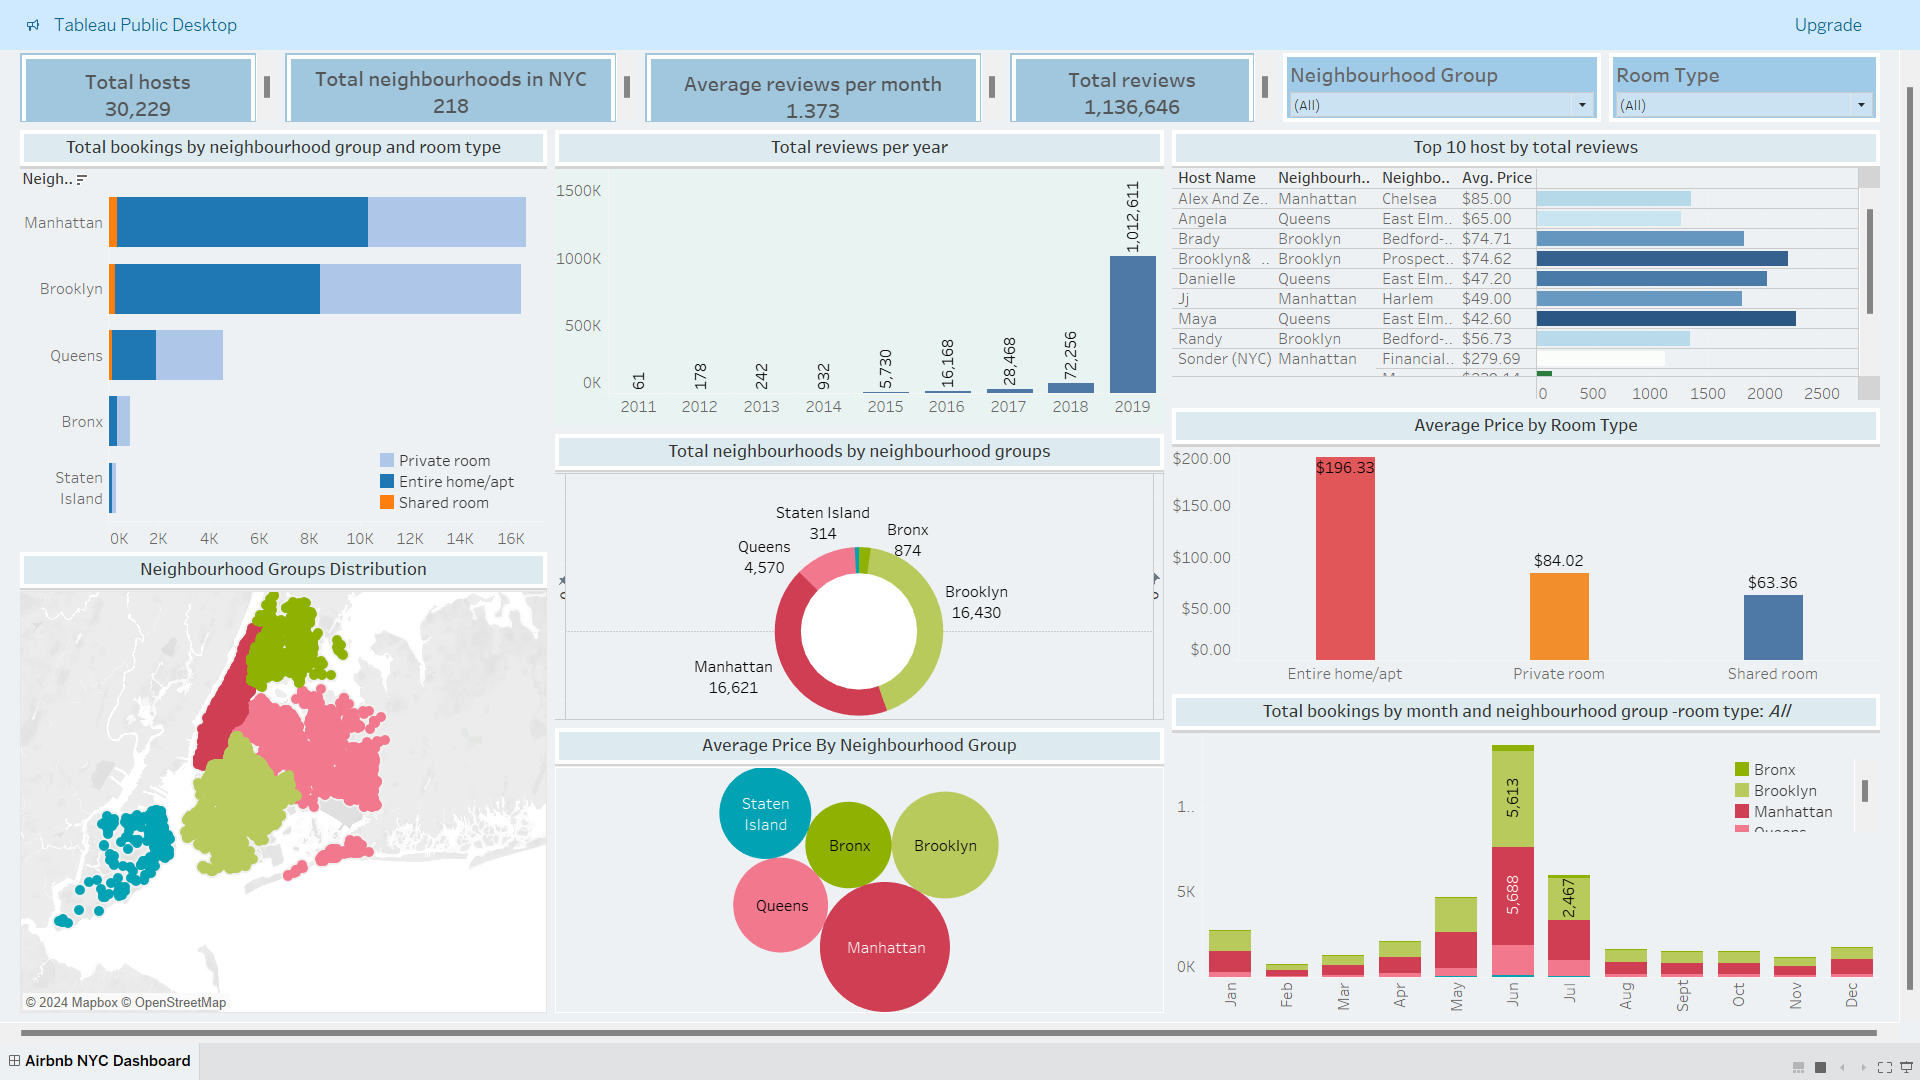

This screenshot's page, from the dashboard's own definition file:
{"tool":"tableau","page":{"name":"Airbnb NYC Dashboard","canvas":[1900,1000],"ordinal":0},"visuals":[{"type":"worksheet","title":"Sheet 10","mark":"Automatic","box":[16,16,265,77]},{"type":"worksheet","title":"Sheet 11","mark":"Automatic","box":[281,16,360,77]},{"type":"worksheet","title":"Sheet 12","mark":"Automatic","box":[641,16,365,77]},{"type":"worksheet","title":"Sheet 13","mark":"Automatic","box":[1006,16,273,77]},{"type":"filter","title":"Sheet 5","param":"[federated.0wqnvb31bra4u91a33ufi122t462].[none:neighbourhood_group:nk]","box":[1279,16,326,77]},{"type":"filter","title":"Sheet 5","param":"[federated.0wqnvb31bra4u91a33ufi122t462].[none:room_type:nk]","box":[1605,16,279,77]},{"type":"worksheet","title":"Sheet 8","mark":"Automatic","rows":["neighbourhood_group"],"cols":["name"],"box":[16,93,534.8,422]},{"type":"worksheet","title":"Sheet 9","mark":"Bar","rows":["number_of_reviews"],"cols":["last_review"],"box":[550.8,93,617.2,304]},{"type":"worksheet","title":"Sheet 7","mark":"Automatic","rows":["host_name","neighbourhood_group","neighbourhood","price"],"cols":["number_of_reviews"],"box":[1168,93,716,278.2]},{"type":"worksheet","title":"Sheet 2","mark":"Automatic","rows":["price"],"cols":["room_type"],"box":[1168,371.2,716,285.9]},{"type":"worksheet","title":"Sheet 6","mark":"Pie","rows":["Calculation_1055569006854387","Calculation_1055569006854387"],"box":[550.8,397,617.2,294]},{"type":"legend","title":"Sheet 8","param":"[federated.0wqnvb31bra4u91a33ufi122t462].[none:room_type:nk]","box":[377,417,162,73]},{"type":"worksheet","title":"Sheet 4","mark":"Automatic","rows":["latitude"],"cols":["longitude"],"box":[16,515,534.8,469]},{"type":"worksheet","title":"Sheet 5","mark":"Bar","rows":["name"],"cols":["last_review"],"box":[1168,657,716,327]},{"type":"worksheet","title":"Sheet 1","mark":"Circle","box":[550.8,691,617.2,293]},{"type":"legend","title":"Sheet 5","param":"[federated.0wqnvb31bra4u91a33ufi122t462].[none:neighbourhood_group:nk]","box":[1731.9,725.7,144.7,72.9]}]}

Visuals, with their boxes on the page's 1900x1000 design canvas (x1, y1, x2, y2). These are canvas units, not pixel positions in the 1920x1080 screenshot, which may show the page scaled, cropped or inside an application window:
"Sheet 10" worksheet: [16, 16, 281, 93]
"Sheet 11" worksheet: [281, 16, 641, 93]
"Sheet 12" worksheet: [641, 16, 1006, 93]
"Sheet 13" worksheet: [1006, 16, 1279, 93]
"Sheet 5" filter: [1279, 16, 1605, 93]
"Sheet 5" filter: [1605, 16, 1884, 93]
"Sheet 8" worksheet: [16, 93, 551, 515]
"Sheet 9" worksheet (Bar marks): [551, 93, 1168, 397]
"Sheet 7" worksheet: [1168, 93, 1884, 371]
"Sheet 2" worksheet: [1168, 371, 1884, 657]
"Sheet 6" worksheet (Pie marks): [551, 397, 1168, 691]
"Sheet 8" legend: [377, 417, 539, 490]
"Sheet 4" worksheet: [16, 515, 551, 984]
"Sheet 5" worksheet (Bar marks): [1168, 657, 1884, 984]
"Sheet 1" worksheet (Circle marks): [551, 691, 1168, 984]
"Sheet 5" legend: [1732, 726, 1877, 799]
